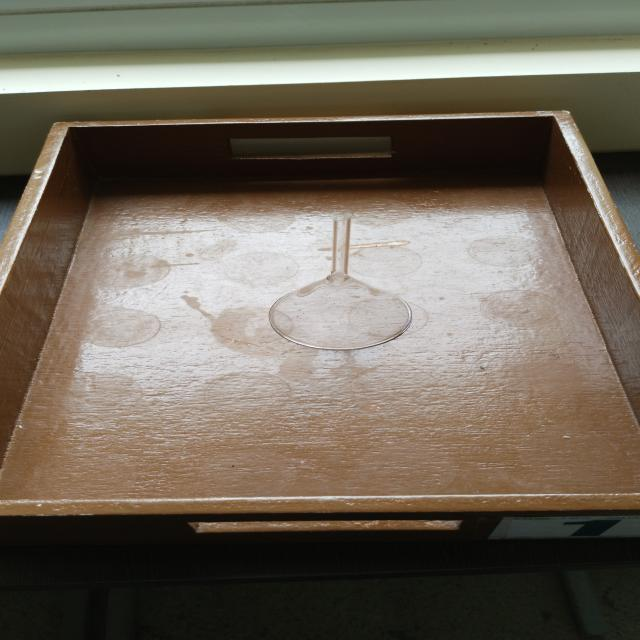funnel: (252, 214, 427, 351)
